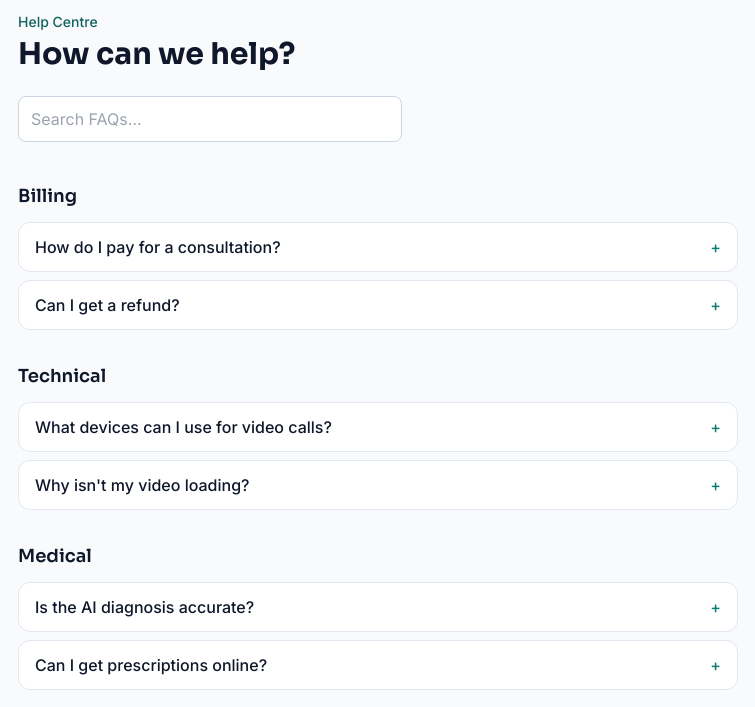
Test: HelpCentre › shows a no-results message when nothing matches
Type "zzz-no-match-zzz" into the search field labelled "Search FAQs…".
click(210, 119); type("zzz-no-match-zzz")  # box [18,96,402,142]
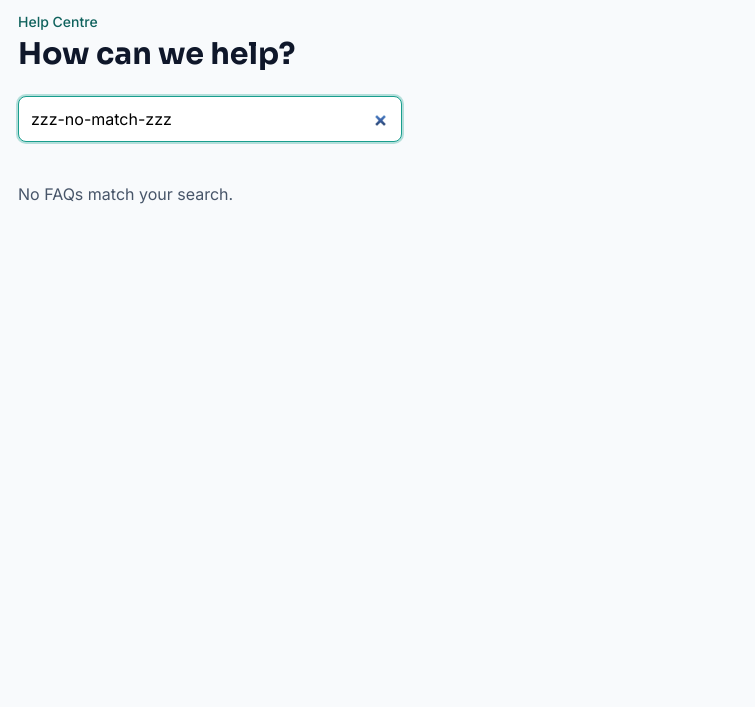
expect the text "No FAQs match your search." is shown: met, box [18,184,233,204]
